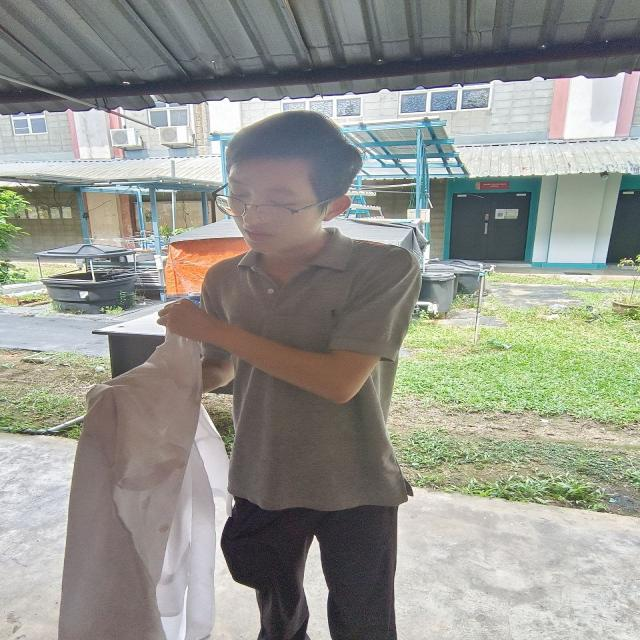person_without_labcoat: (59, 110, 420, 640)
